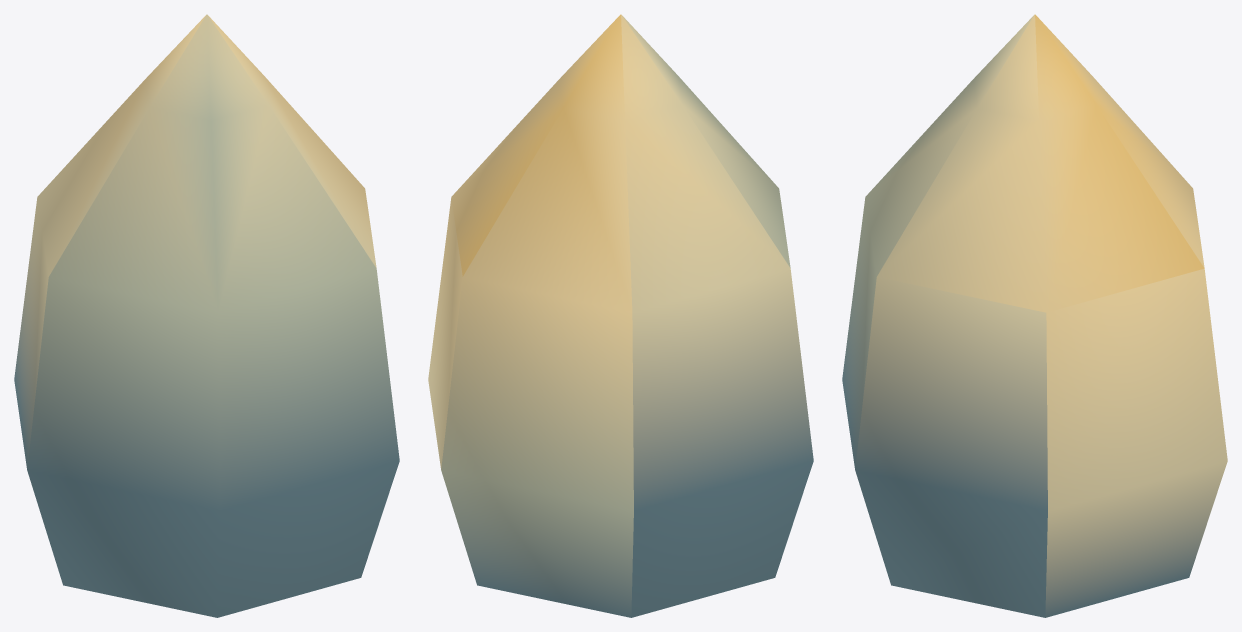
Rendered from wprop.sacks__one.glb.
3 renders of one model, left to right at view 1: azimuth 30°, elevation 25°; view 2: azimuth 150°, elevation 25°; view 3: azimuth 270°, elevation 25°, orthographic.
Parts seen in each view (by area): view 1: kit_sacks; view 2: kit_sacks; view 3: kit_sacks.
Boxes of the visible parts, x1=… form: kit_sacks: x1=14, y1=14, x2=399, y2=617; kit_sacks: x1=428, y1=14, x2=813, y2=617; kit_sacks: x1=842, y1=14, x2=1227, y2=617.
Bounding box in the file's own units: 0.4991 × 0.68 × 0.4473.
Materials: 1 (1 with a texture image).
